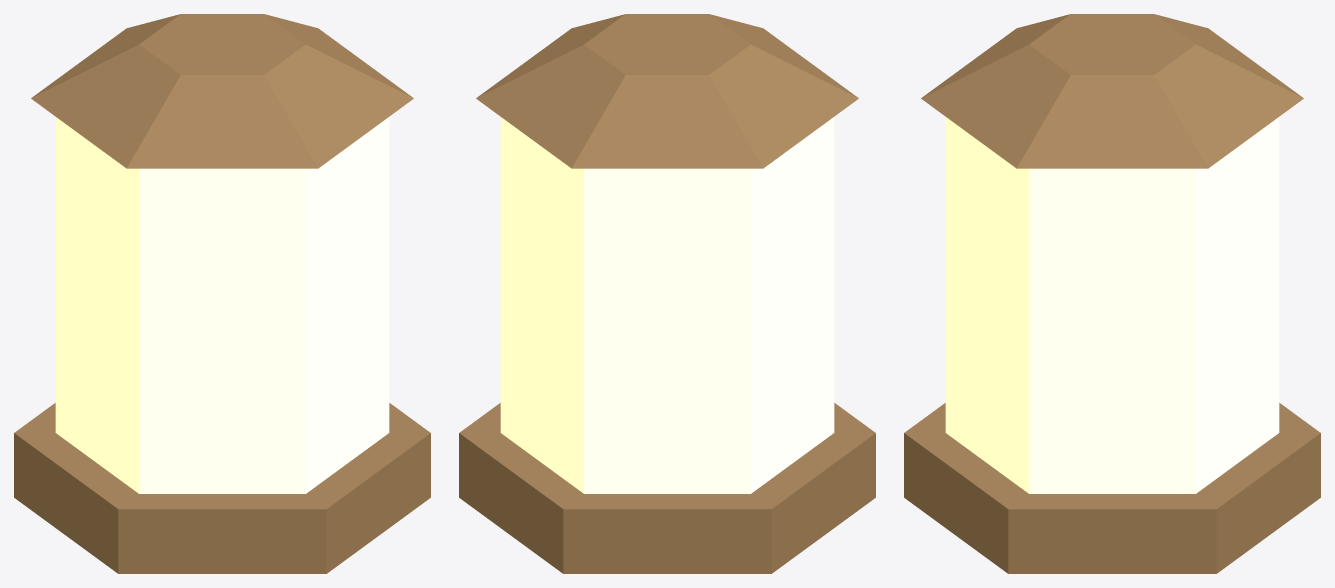
File: mwm_floatlantern.glb
3 renders of one model, left to right at view 1: azimuth 30°, elevation 25°; view 2: azimuth 150°, elevation 25°; view 3: azimuth 270°, elevation 25°, orthographic.
Parts seen in each view (by area): view 1: lanternpaper, lanterncap; view 2: lanternpaper, lanterncap; view 3: lanternpaper, lanterncap.
Part boxes in pixels (<box>): lanternpaper: <box>55,117,389,493</box>; lanterncap: <box>14,14,430,573</box>; lanternpaper: <box>500,117,834,493</box>; lanterncap: <box>459,14,875,573</box>; lanternpaper: <box>945,117,1279,493</box>; lanterncap: <box>904,14,1320,573</box>.
Size of the model in its own units: 0.6062 by 0.84 by 0.7.
